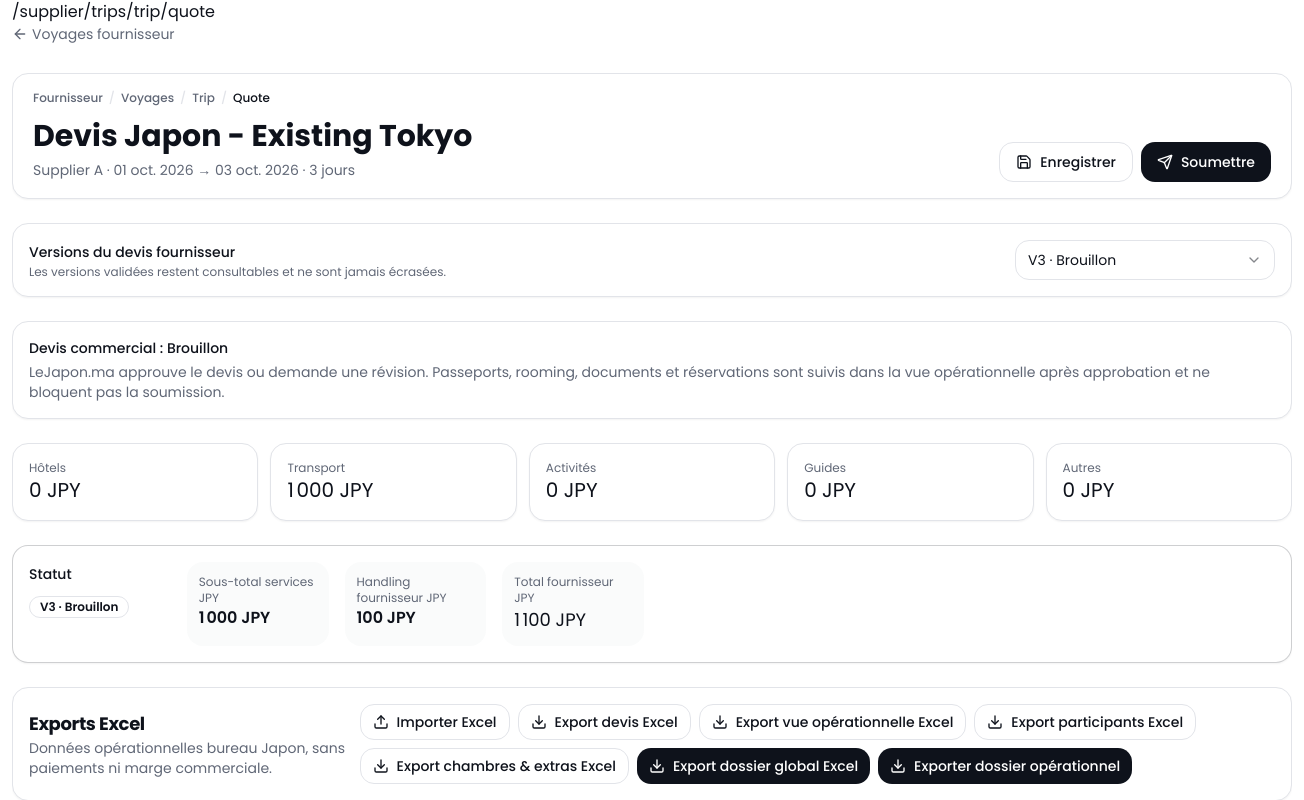
existing supplier quotation lifecycle through the admin cockpit › submits, requests revision, resubmits, reviews and approves without operational blockers or price overwrites
Later steps or results of the test are not shown.
Click the button "Soumettre" at (1206, 162), box [1141, 142, 1271, 182]
(page scrolled)
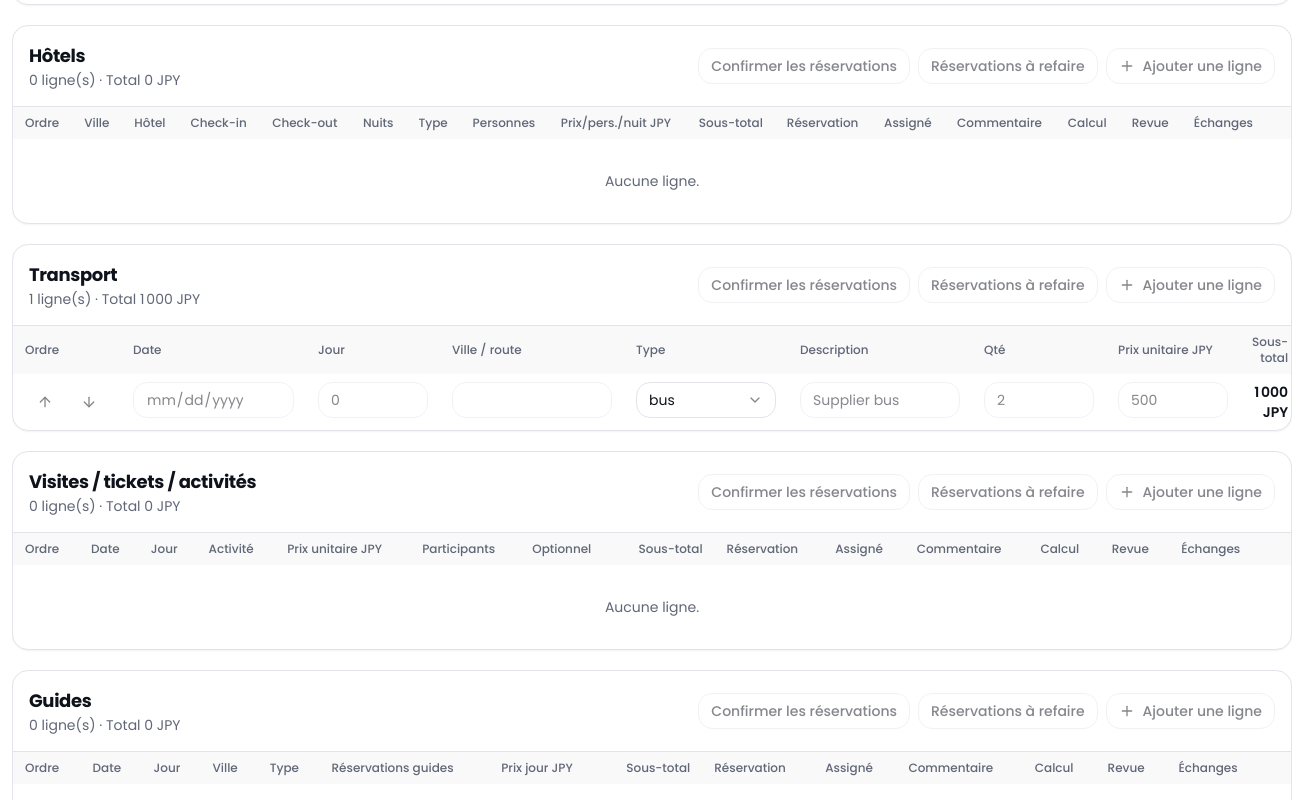
Expected: the 3rd number field showing "500" is disabled, [1118, 382, 1228, 418]
